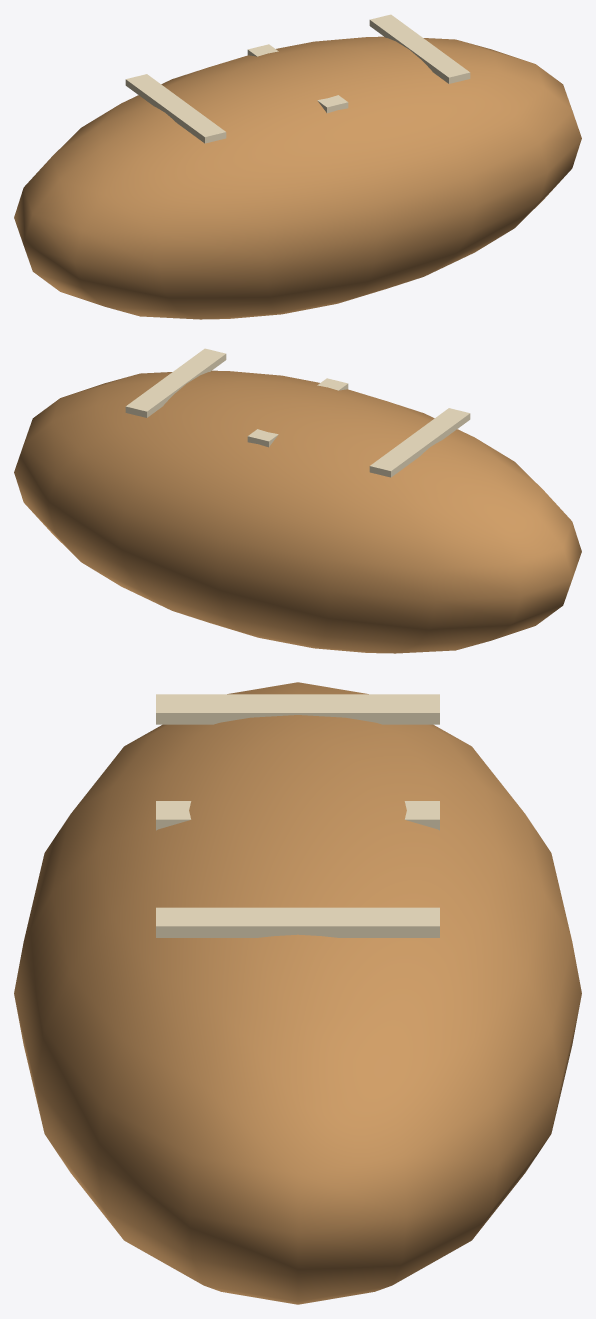
Rendered from bread.glb.
3 views of the same model, one above another, from view 1: azimuth 30°, elevation 25°; view 2: azimuth 150°, elevation 25°; view 3: azimuth 270°, elevation 25° (orthographic). The views are drawn at different scales.
Parts seen in each view (by area): view 1: bread; view 2: bread; view 3: bread.
Boxes of the visible parts, bbox=[...] form: bread: bbox=[14, 14, 581, 319]; bread: bbox=[14, 348, 581, 653]; bread: bbox=[14, 682, 581, 1304].
Bounding box in the file's own units: 1.8 × 0.7 × 0.9.
